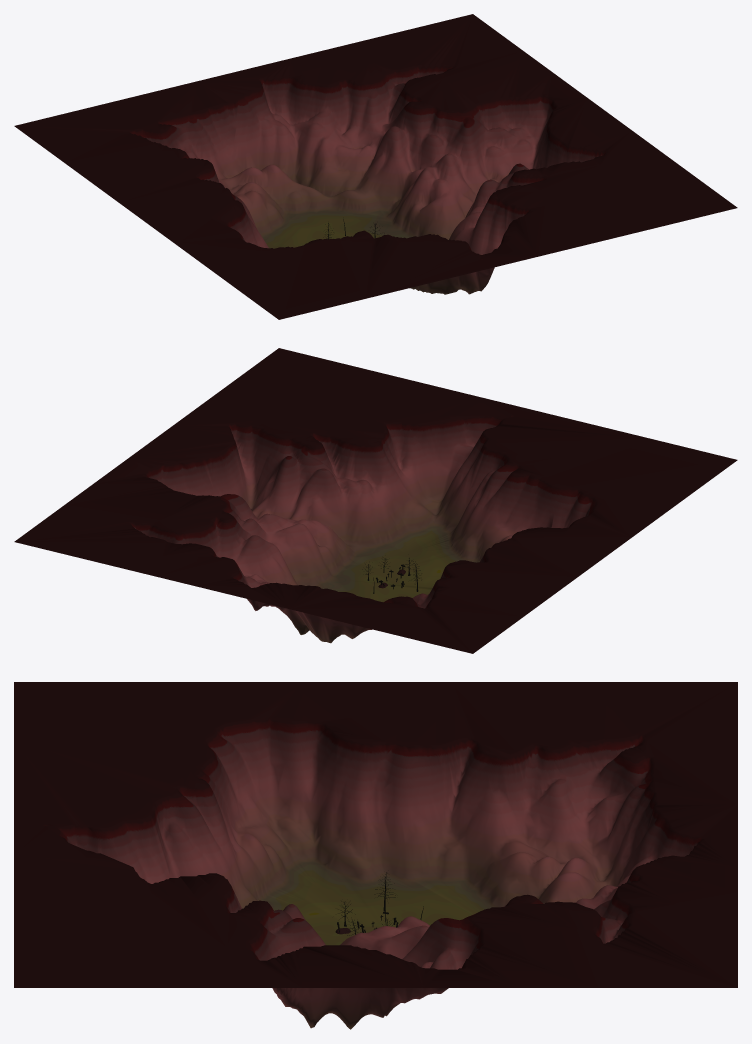
File: graveyard.obj
The picture shows the model from 3 angles, top to bottom: view 1: azimuth 30°, elevation 25°; view 2: azimuth 150°, elevation 25°; view 3: azimuth 270°, elevation 25°; orthographic projection. The views are drawn at different scales.
Parts seen in each view (by area): view 1: Plane001; view 2: Plane001; view 3: Plane001.
Boxes of the visible parts, <box> form: Plane001: <box>14,14,737,319</box>; Plane001: <box>14,348,737,653</box>; Plane001: <box>14,682,737,1029</box>.
Size of the model in its own units: 10000 by 1655 by 10000.
3 materials, 1 textured.
